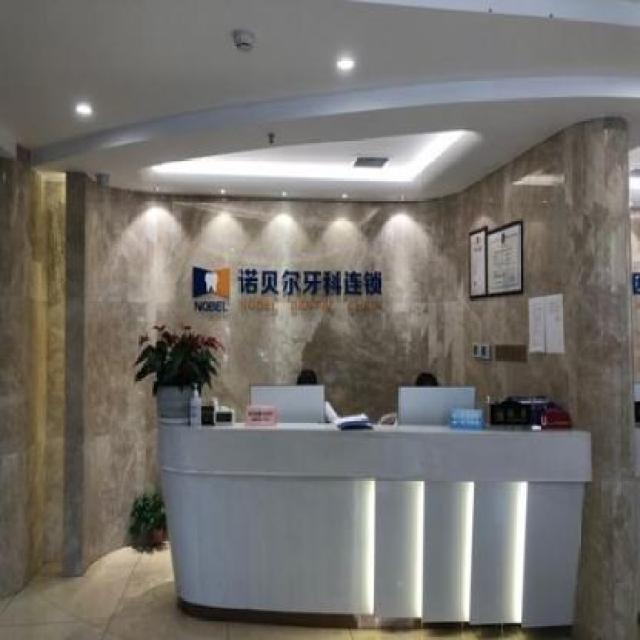frontdesk: (149, 389, 596, 639)
